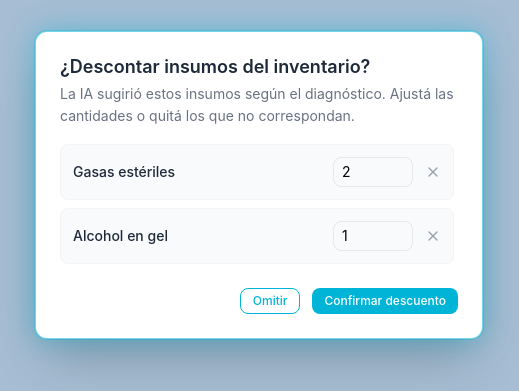
it: SuppliesDeductModal — organismo › quita un insumo de la lista al presionar su botón quitar
The image size is (519, 391).
Click the button named "quitar gasas estériles".
click(433, 172)  # box [425, 164, 441, 180]
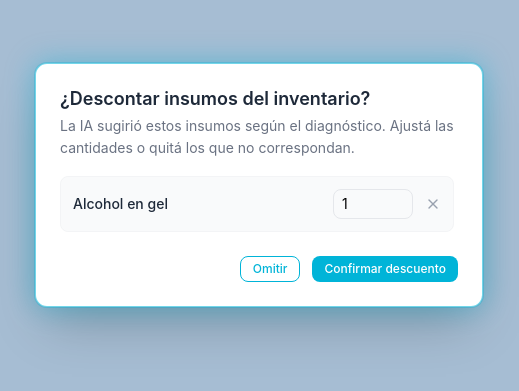
Result: the text "Gasas estériles" is gone
